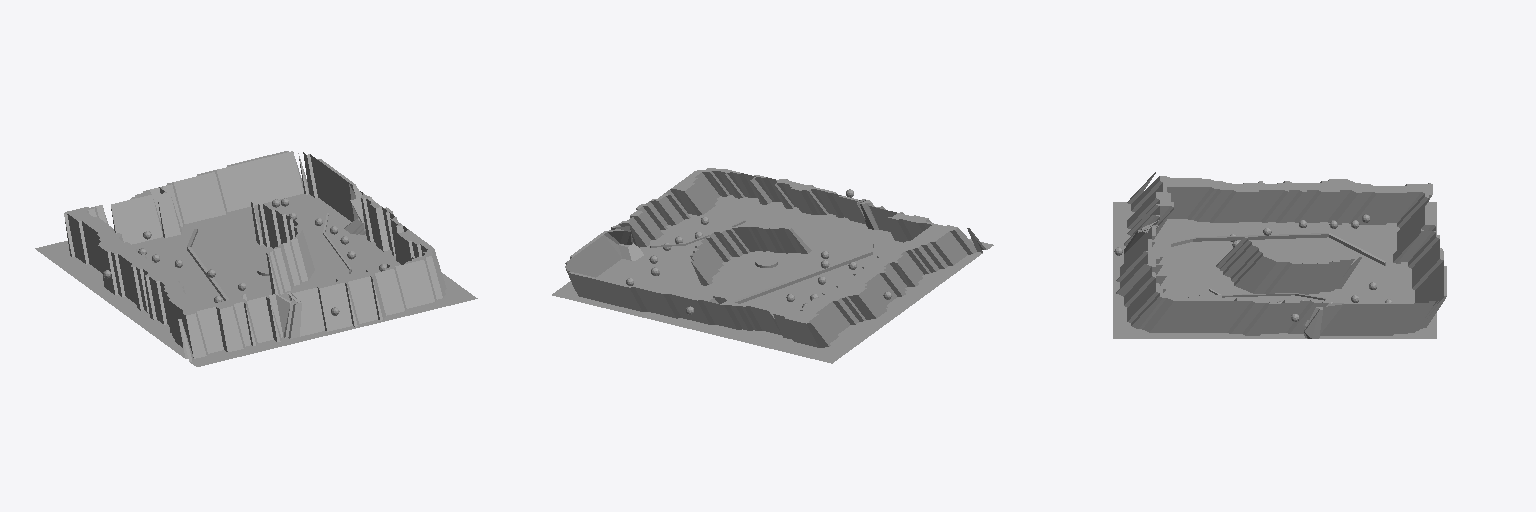
Rendered from labrynth.obj.
The picture shows the model from 3 angles: view 1: azimuth 30°, elevation 25°; view 2: azimuth 150°, elevation 25°; view 3: azimuth 270°, elevation 25°; orthographic projection.
Visible parts, largest first — view 1: Plane; view 2: Plane, River_Cube.001; view 3: Plane, River_Cube.001.
Boxes of the visible parts, box(x1,y1,x2,y2) form: Plane: box(35, 151, 477, 366); Plane: box(552, 168, 993, 363); River_Cube.001: box(733, 241, 873, 303); Plane: box(1113, 172, 1446, 338); River_Cube.001: box(1171, 233, 1385, 265).
Bounding box in the file's own units: 233 × 25.08 × 236.